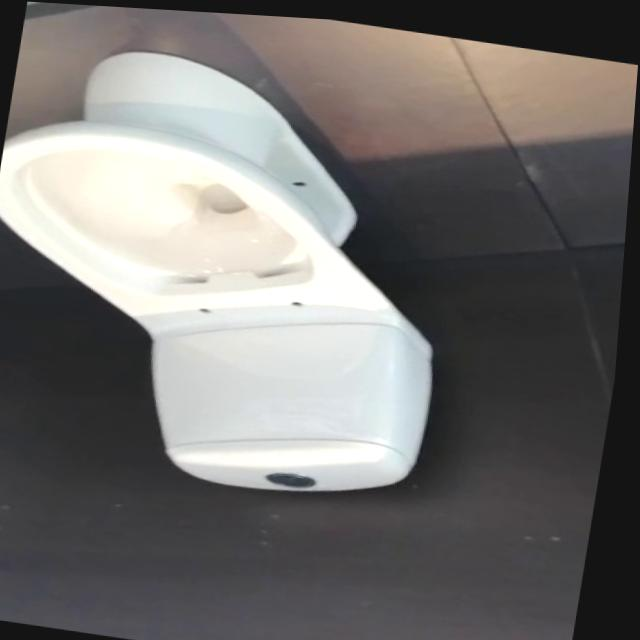toilet: (0, 31, 484, 510)
